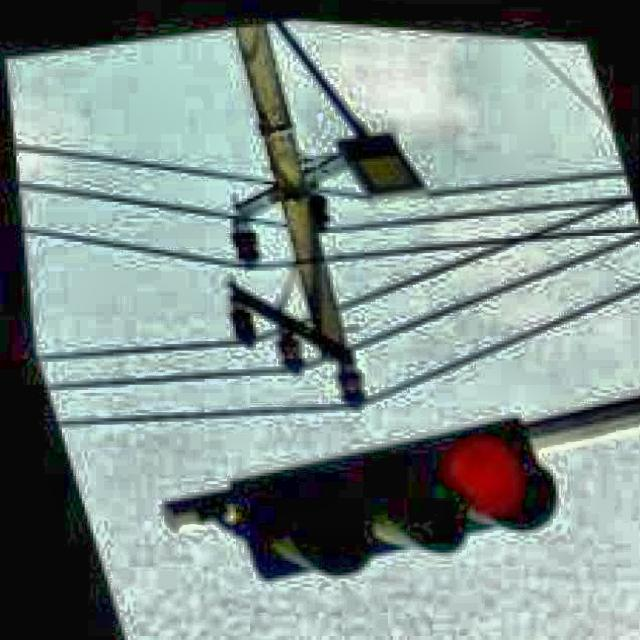red: (227, 422, 563, 552)
